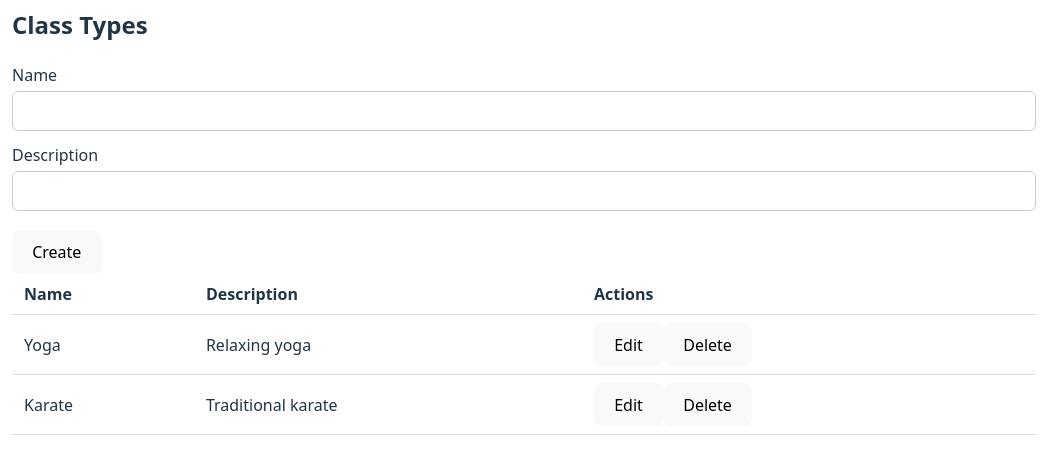
Test case: ClassTypes › edits an existing class type
Expected: the text "Yoga" is shown, [12,314,194,375]
# Click edit on Yoga
Click the button "Edit" in the row of "Relaxing yoga": (628, 345) [594,323,663,366]
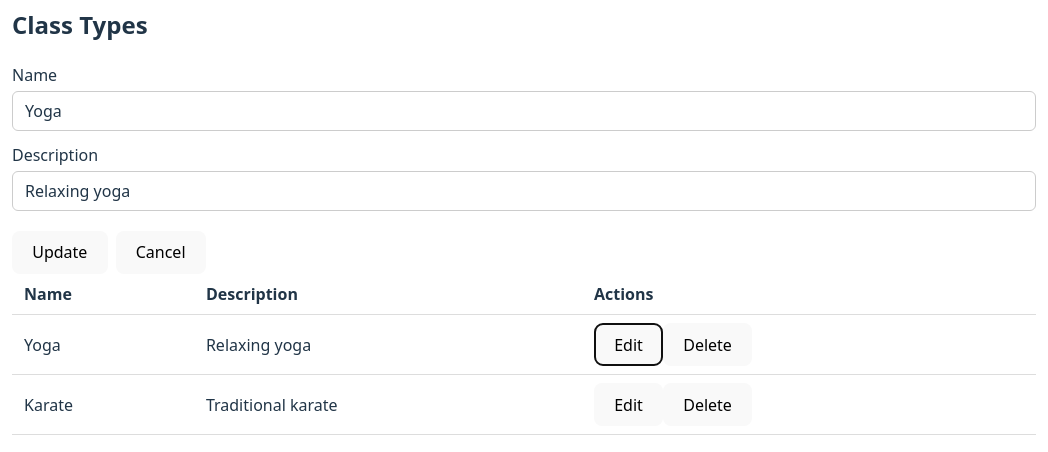
Expected: the field labelled "Name" holds "Yoga"
Expected: the field labelled "Description" holds "Relaxing yoga", [12,171,1036,211]
Expected: the button "Update" is shown, [12,231,108,274]
# Clear and type new values
Replace the text in the field labelled "Name" with "Hot Yoga": (524, 111) [12,91,1036,131]
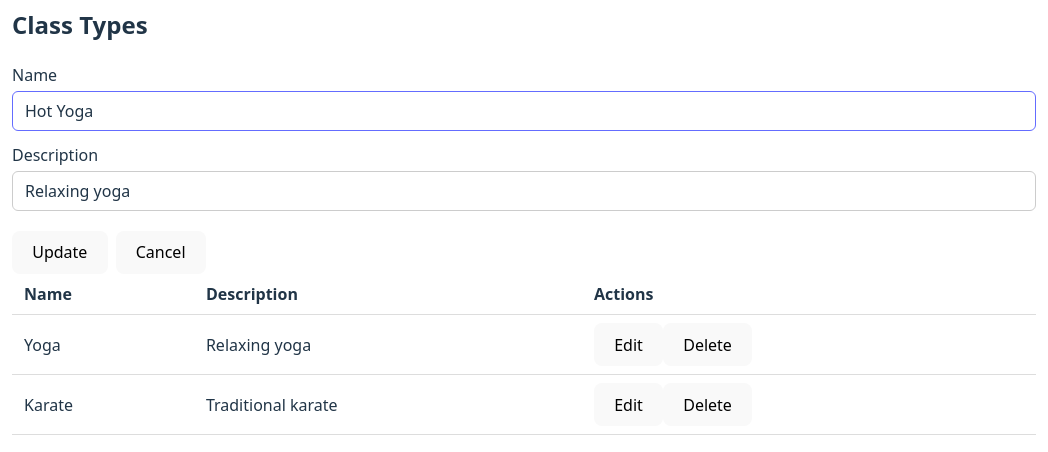
Replace the text in the field labelled "Description" with "Heated yoga": (524, 191) [12,171,1036,211]
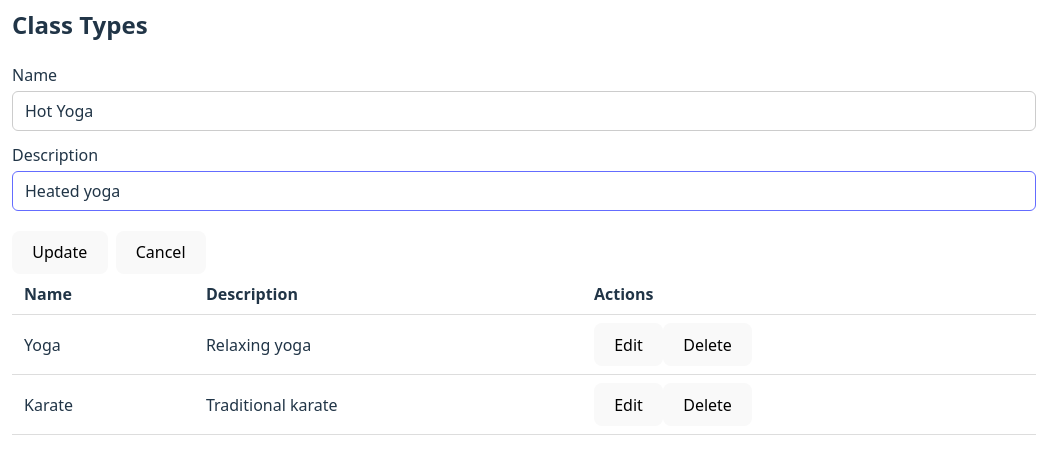
Click the button "Update": (60, 252) [12,231,108,274]
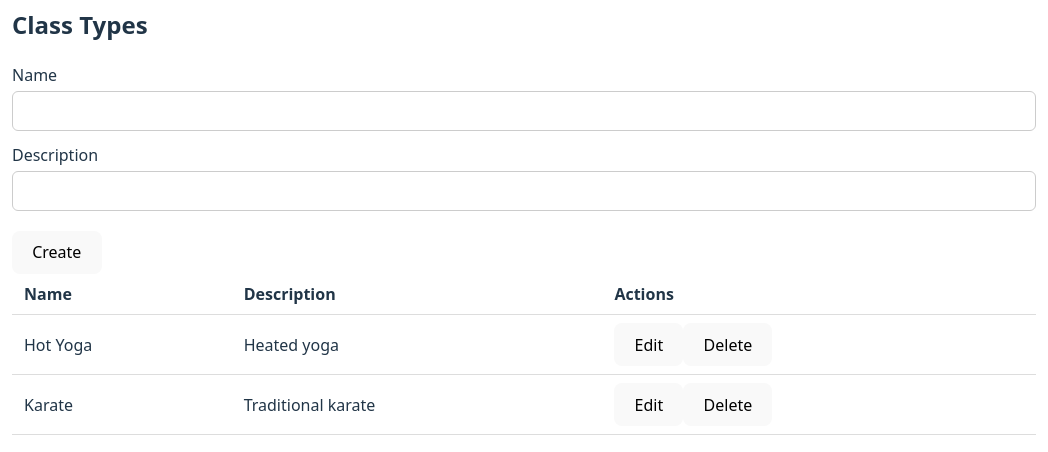
Expected: the text "Hot Yoga" is shown, [12,314,232,375]
